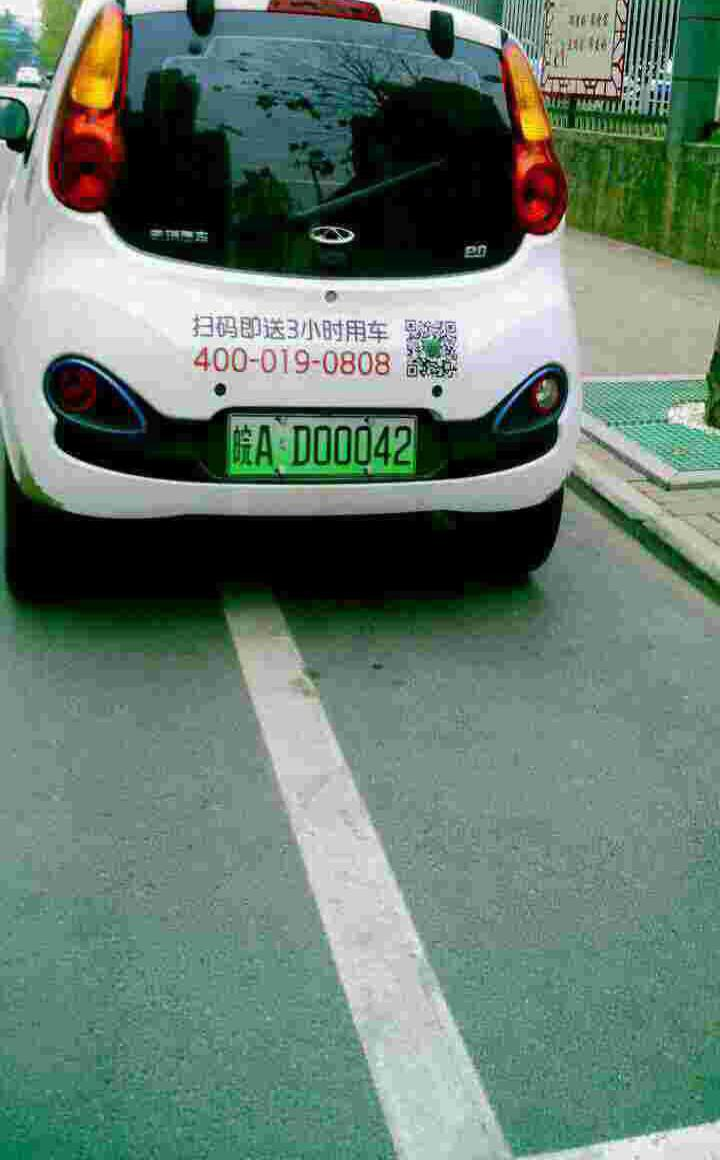car: (229, 419, 424, 482)
